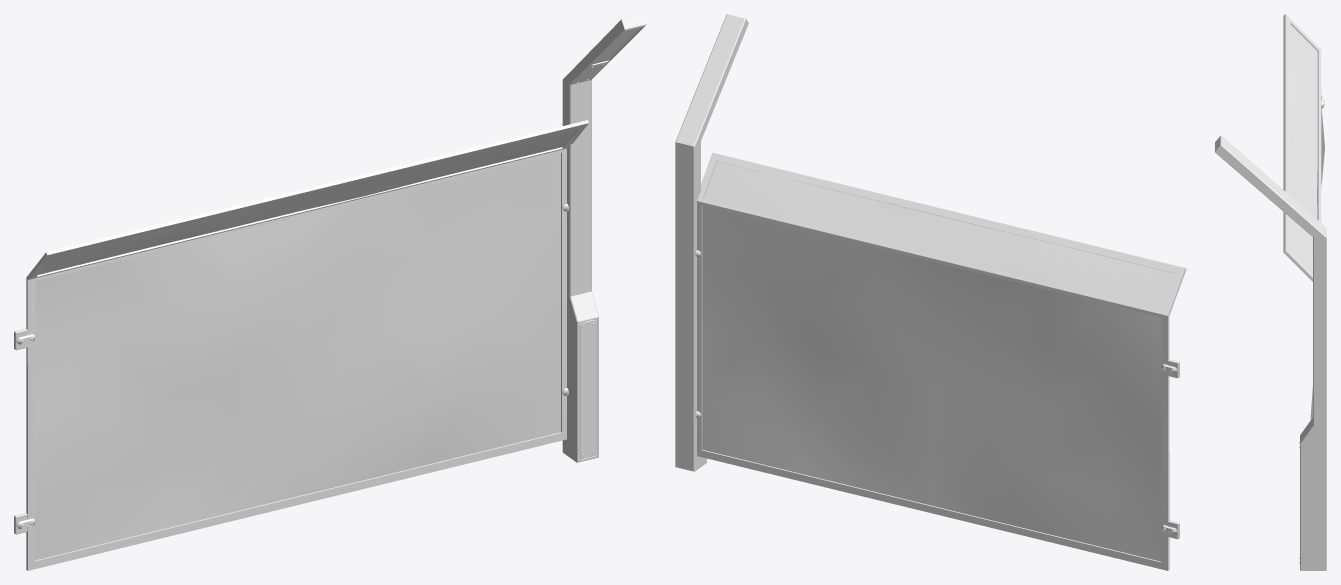
Rendered from KB3D_FTW_PropFenceSegment_B_grp.glb.
3 views of the same model, side by side, from view 1: azimuth 30°, elevation 25°; view 2: azimuth 150°, elevation 25°; view 3: azimuth 270°, elevation 25° (orthographic). The views are drawn at different scales.
Visible parts, largest first — view 1: KB3D_FTW_PropFenceSegment_B_Main; view 2: KB3D_FTW_PropFenceSegment_B_Main; view 3: KB3D_FTW_PropFenceSegment_B_Main.
Part boxes in pixels (x1=…): KB3D_FTW_PropFenceSegment_B_Main: x1=14, y1=14, x2=646, y2=570; KB3D_FTW_PropFenceSegment_B_Main: x1=675, y1=14, x2=1186, y2=570; KB3D_FTW_PropFenceSegment_B_Main: x1=1215, y1=14, x2=1326, y2=570.
Bounding box in the file's own units: 8.78 × 6.96 × 1.66.
4 materials, 1 textured.
